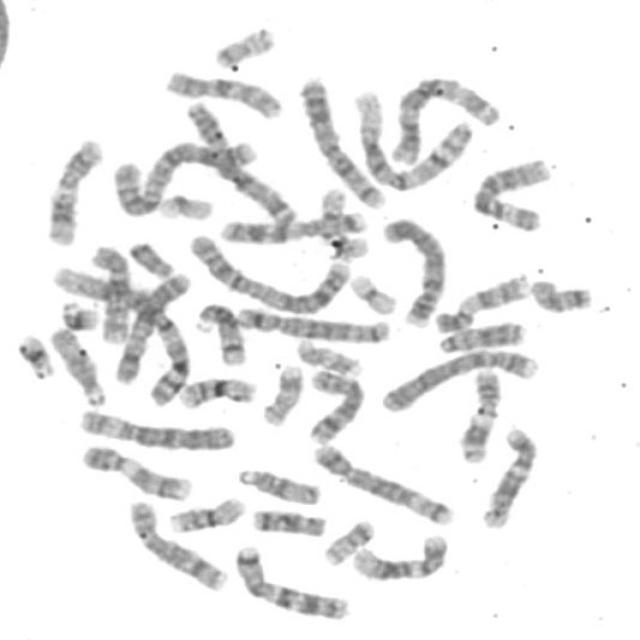A1: (47, 258, 193, 411), (348, 84, 476, 192)
A2: (184, 225, 355, 315), (108, 134, 261, 218)
A3: (179, 93, 301, 226), (386, 68, 504, 166)
B4: (376, 341, 545, 415), (376, 211, 450, 329)
B5: (307, 436, 459, 527), (230, 300, 394, 344)
C10: (158, 62, 287, 120), (84, 237, 135, 346)
C11: (40, 131, 106, 247), (454, 362, 503, 464)
C12: (476, 420, 542, 530), (347, 527, 453, 583)
C6: (72, 401, 239, 453), (466, 150, 555, 233)
C7: (230, 538, 356, 621), (213, 205, 371, 245)
C8: (122, 493, 230, 593), (302, 363, 368, 446)
C9: (76, 438, 196, 502), (429, 267, 533, 335)
D13: (302, 77, 391, 215), (434, 314, 528, 353)
D14: (190, 296, 248, 367)
D15: (44, 321, 112, 408), (232, 461, 324, 506)
E16: (163, 490, 249, 534), (172, 369, 260, 410)
E17: (290, 332, 368, 378), (257, 358, 306, 428)
E18: (525, 271, 597, 315), (248, 502, 330, 539)
F19: (345, 267, 402, 316), (153, 185, 216, 223)
F20: (208, 19, 280, 69), (318, 512, 379, 566)
G21: (9, 326, 58, 380), (55, 294, 103, 332)
G22: (327, 220, 366, 260), (317, 188, 346, 229)
X: (108, 264, 195, 386)
Y: (122, 234, 178, 280)
